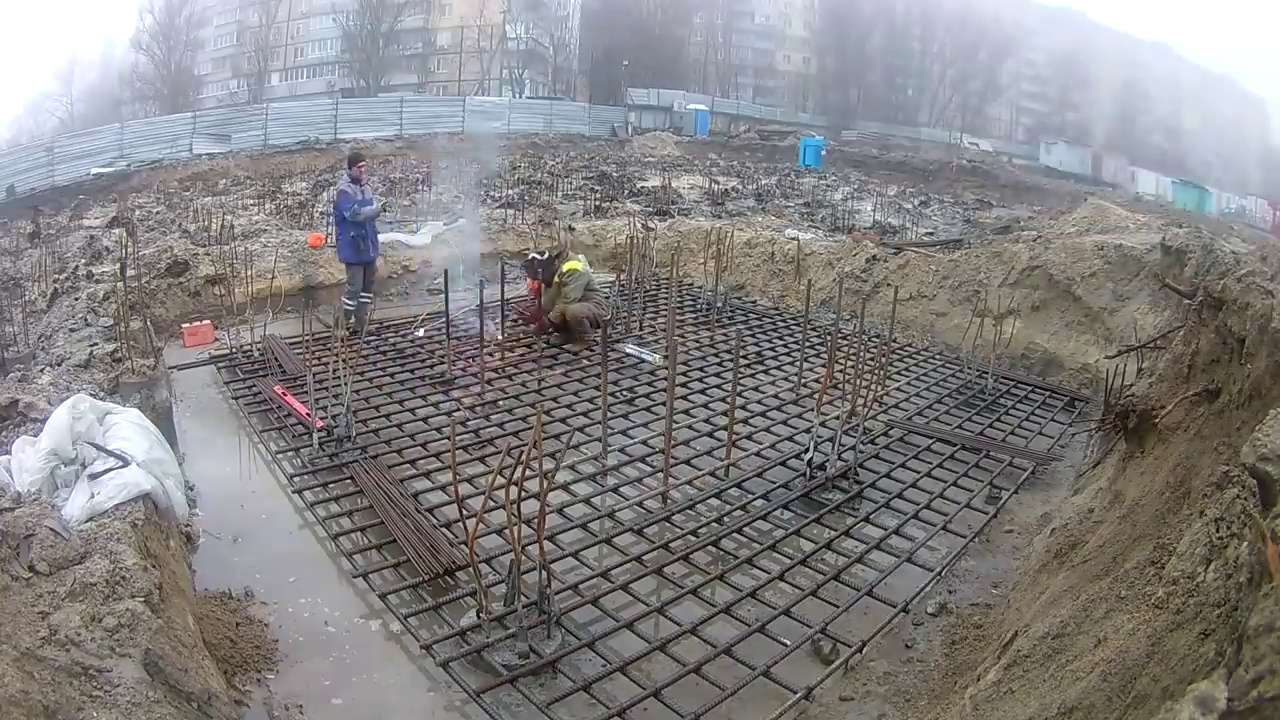helmet: (306, 232, 324, 248)
helmet-off: (523, 248, 567, 288), (340, 155, 367, 183)
person: (333, 152, 390, 335), (522, 247, 610, 350)
